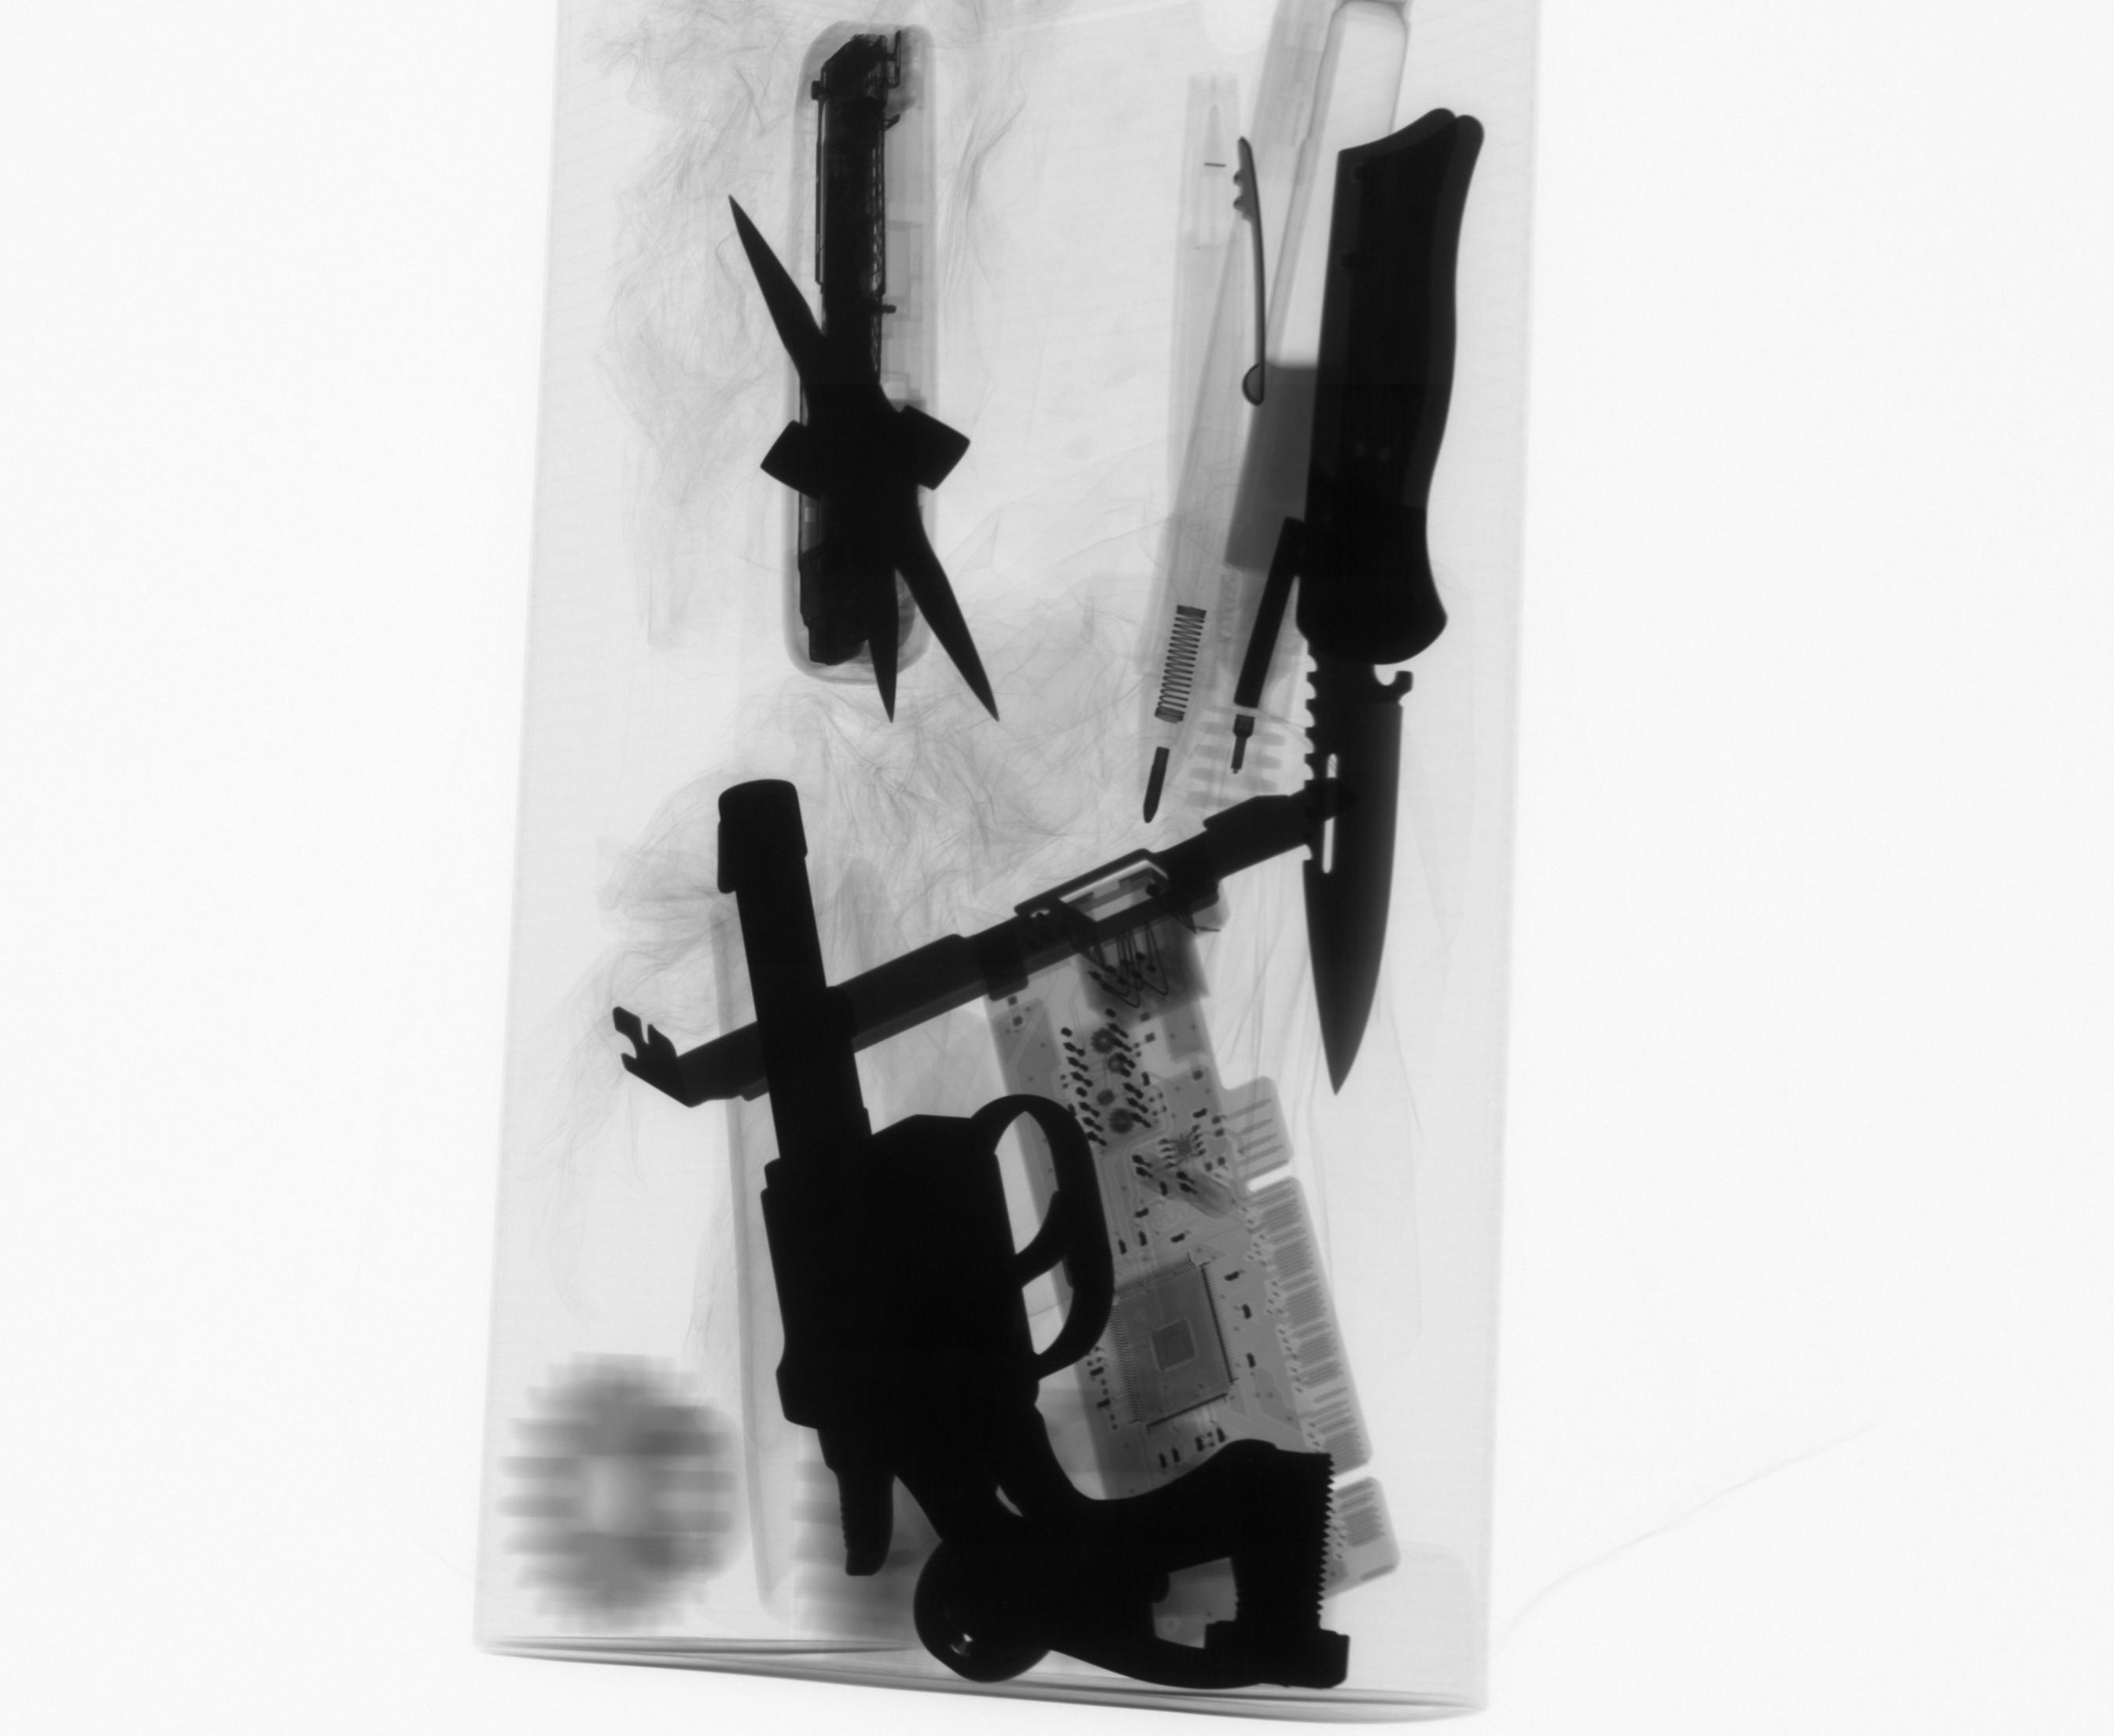Handgun: (707, 767, 1320, 1707)
Knife: (1291, 94, 1493, 1105)
Shuriken: (713, 178, 1017, 740)
